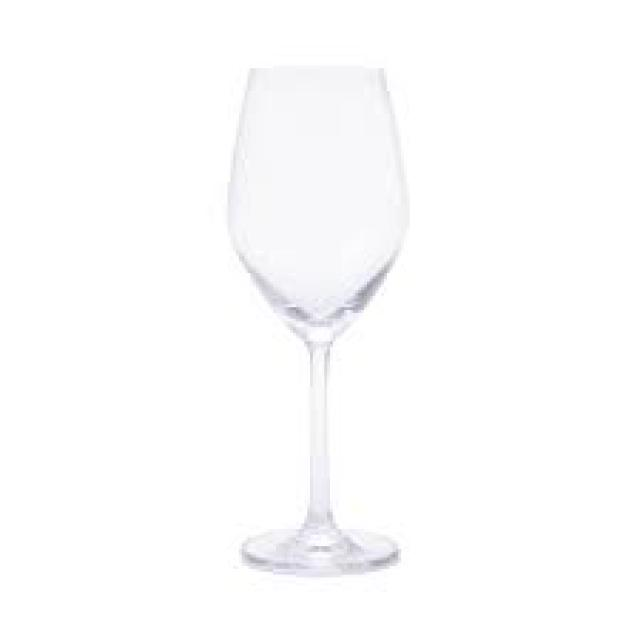glass: (228, 63, 410, 563)
